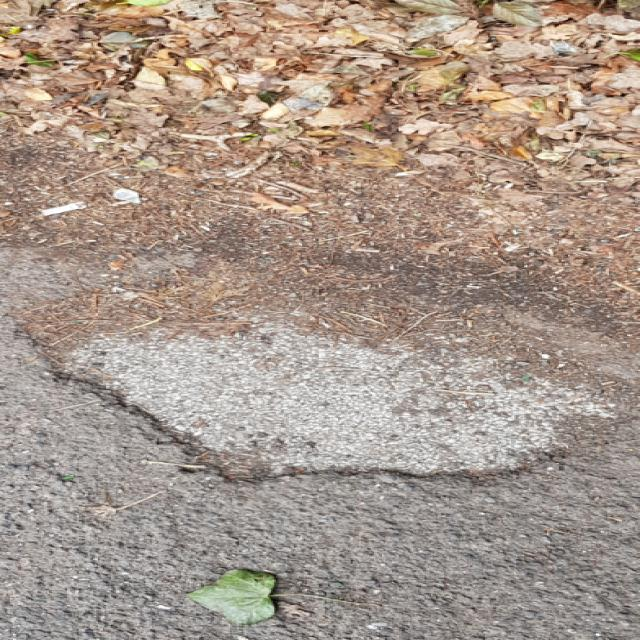pothole: (9, 274, 626, 492)
